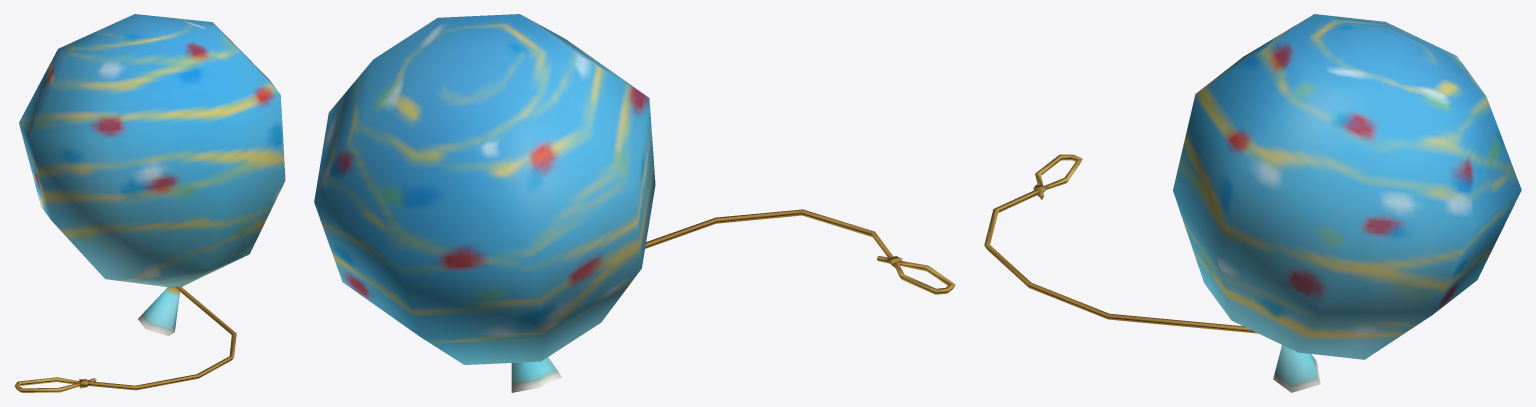
The model's file is jsf_WaterBalloon_10_c.fbx.
3 views of the same model, side by side, from view 1: azimuth 30°, elevation 25°; view 2: azimuth 150°, elevation 25°; view 3: azimuth 270°, elevation 25° (orthographic). The views are drawn at different scales.
Visible parts, largest first — view 1: jsf_WaterBalloon_10_c; view 2: jsf_WaterBalloon_10_c; view 3: jsf_WaterBalloon_10_c.
Boxes of the visible parts, box(x1,y1,x2,y2) form: jsf_WaterBalloon_10_c: box(14, 14, 285, 392); jsf_WaterBalloon_10_c: box(314, 14, 955, 392); jsf_WaterBalloon_10_c: box(984, 14, 1521, 392).
Bounding box in the file's own units: 16.89 × 12.55 × 17.11.
